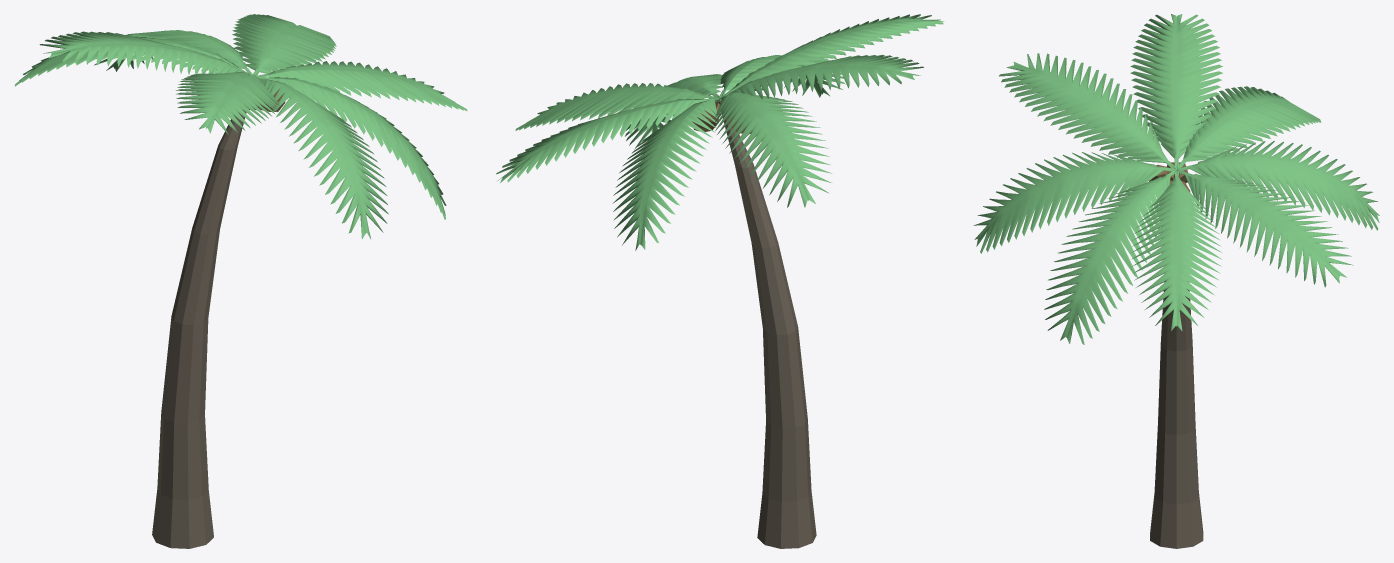
The model's file is Coconut Tree.fbx.
3 renders of one model, left to right at view 1: azimuth 30°, elevation 25°; view 2: azimuth 150°, elevation 25°; view 3: azimuth 270°, elevation 25°, orthographic. The views are drawn at different scales.
Parts seen in each view (by area): view 1: polySurface9; view 2: polySurface9; view 3: polySurface9.
Part boxes in pixels (x1,y1,x2,y2): polySurface9: [15, 14, 467, 548]; polySurface9: [496, 14, 944, 548]; polySurface9: [973, 14, 1379, 548].
Size of the model in its own units: 15.66 by 18.71 by 14.83.
